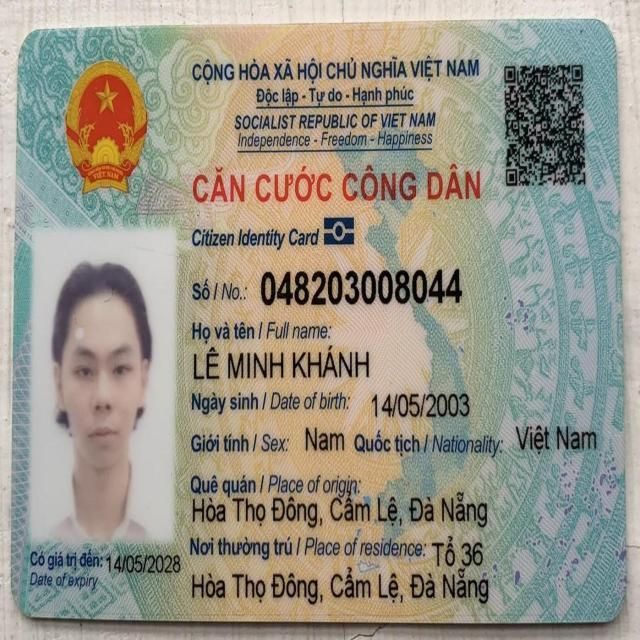current_place: (190, 565, 490, 607), (430, 535, 487, 568)
dob: (369, 391, 472, 422)
expire_date: (104, 547, 182, 574)
gender: (300, 423, 345, 456)
id: (256, 263, 466, 310)
name: (190, 345, 372, 385)
nationality: (512, 422, 599, 454)
origin_place: (189, 490, 491, 528)
qr: (500, 57, 593, 195)
